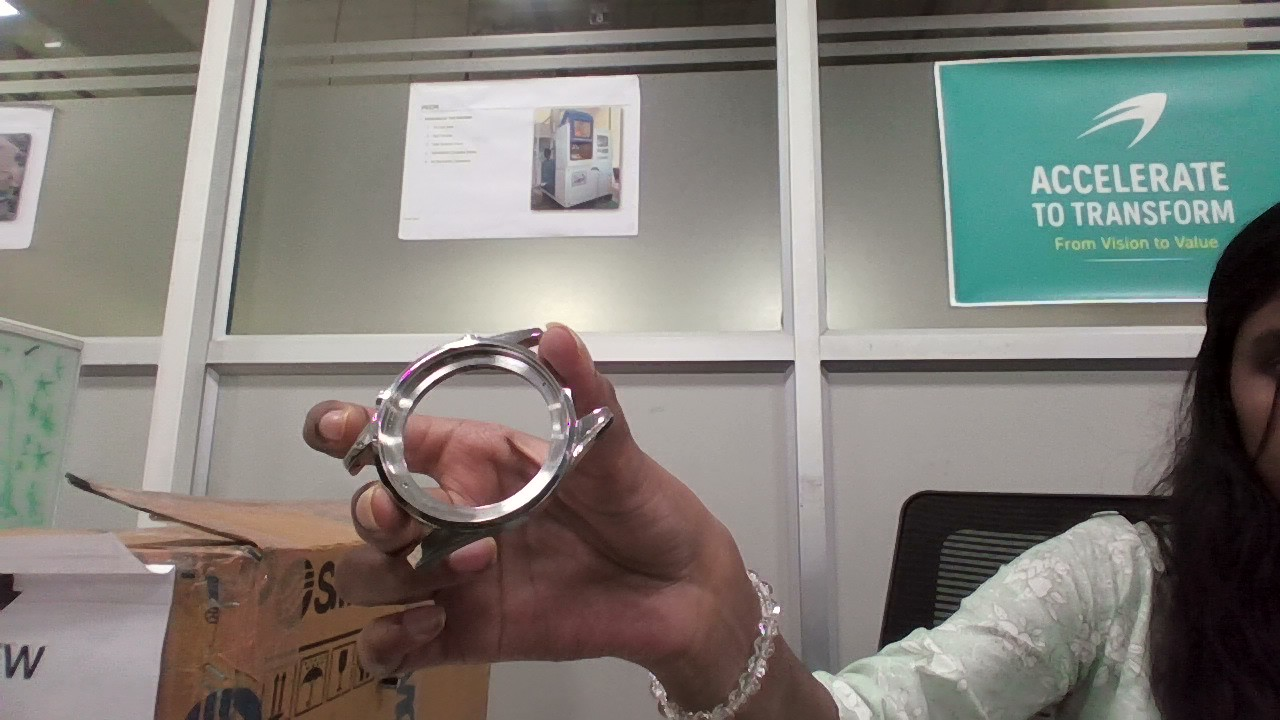case1: (342, 321, 610, 570)
